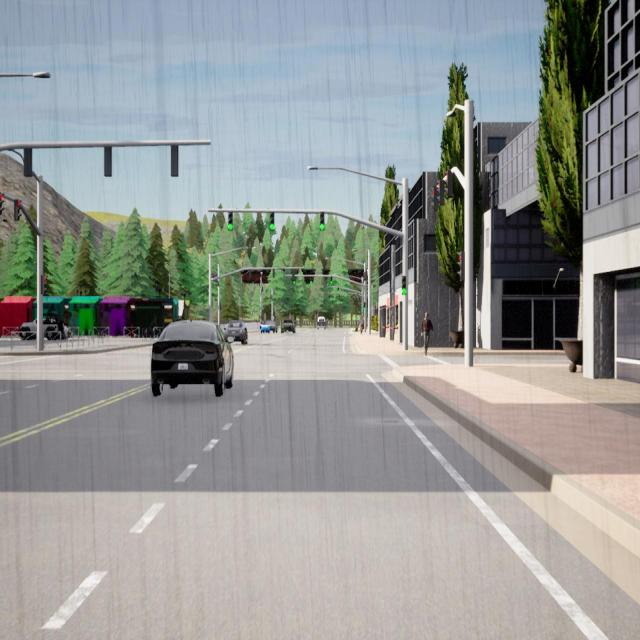Pedestrian: (421, 312, 434, 356), (360, 316, 364, 334)
Vehicle: (151, 321, 233, 396), (21, 318, 68, 339), (224, 321, 247, 343), (282, 319, 296, 333), (261, 321, 277, 333), (318, 316, 326, 329)
traffic_light: (171, 145, 178, 176), (24, 149, 32, 176), (105, 146, 112, 175), (458, 252, 465, 280), (446, 172, 453, 195), (438, 180, 444, 205), (432, 187, 438, 210), (14, 200, 20, 220), (228, 212, 233, 230), (320, 212, 325, 230), (41, 276, 46, 294), (270, 212, 274, 230), (402, 277, 406, 294), (0, 193, 2, 214), (293, 276, 296, 285), (363, 302, 366, 310), (273, 269, 275, 277), (249, 269, 251, 277), (219, 302, 221, 310), (310, 277, 312, 284), (330, 277, 332, 283), (328, 294, 329, 298), (339, 295, 340, 299), (338, 288, 339, 292)
